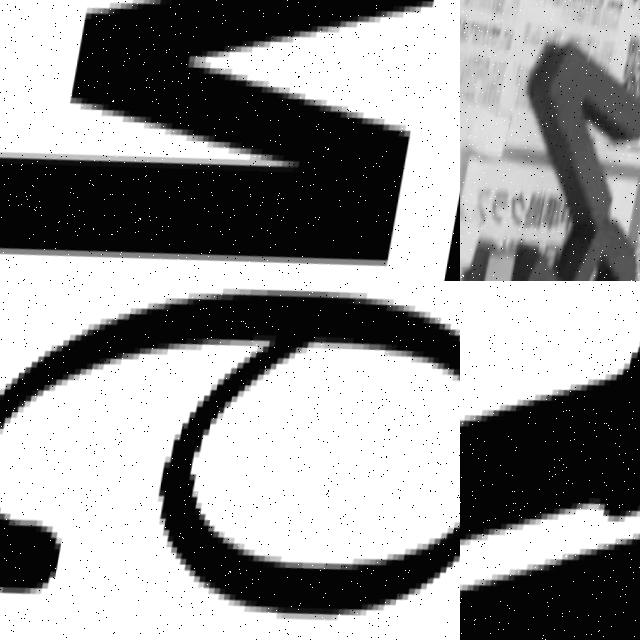9: (0, 281, 460, 640)
G: (460, 281, 640, 640)
H: (460, 53, 530, 269)
L: (460, 235, 603, 281)
M: (0, 0, 460, 281)
P: (505, 221, 640, 281)
V: (504, 36, 640, 225)
